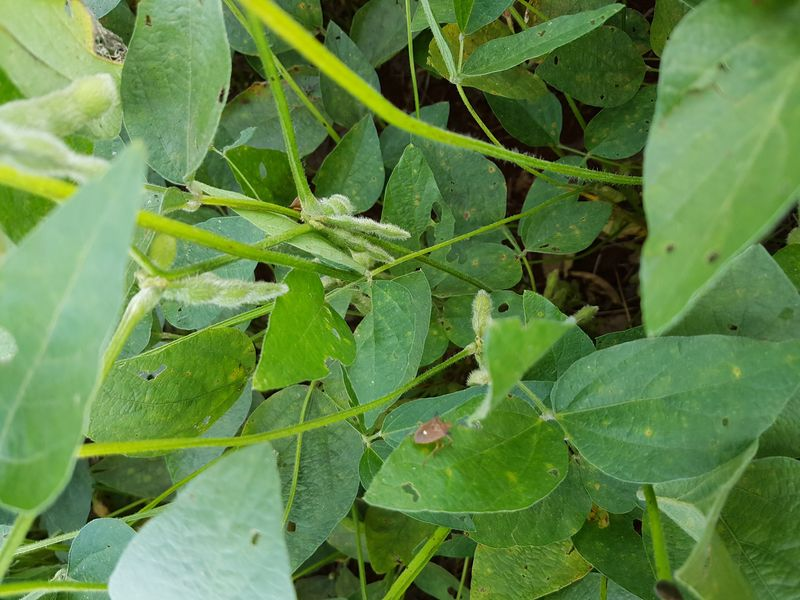Euschistus_heros_adulto: (403, 408, 461, 462)
